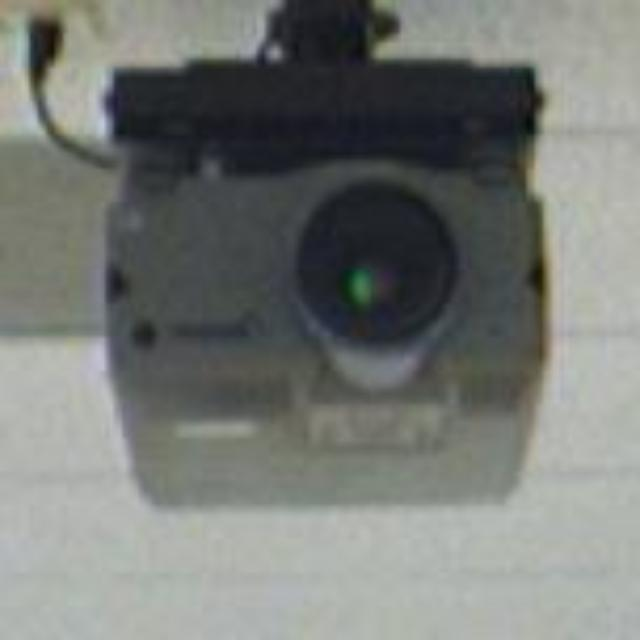Projector: (101, 150, 555, 520)
